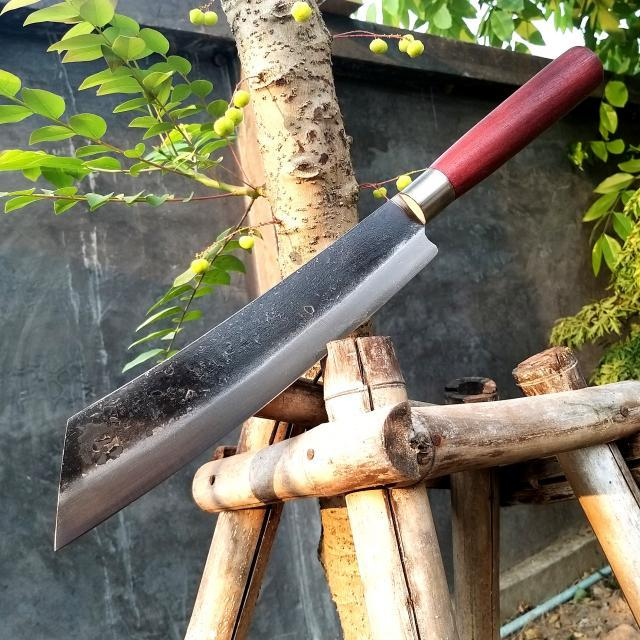eto: (50, 37, 606, 546)
